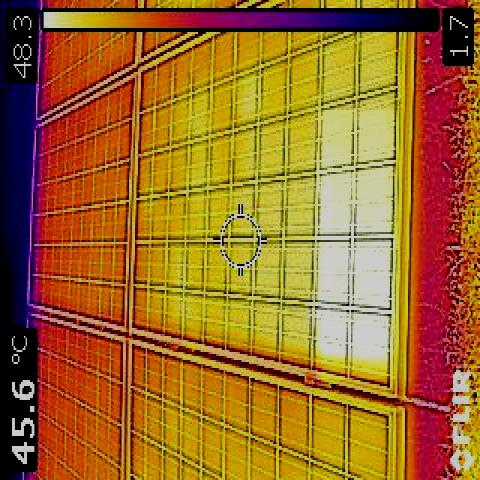fault: (316, 110, 395, 379)
